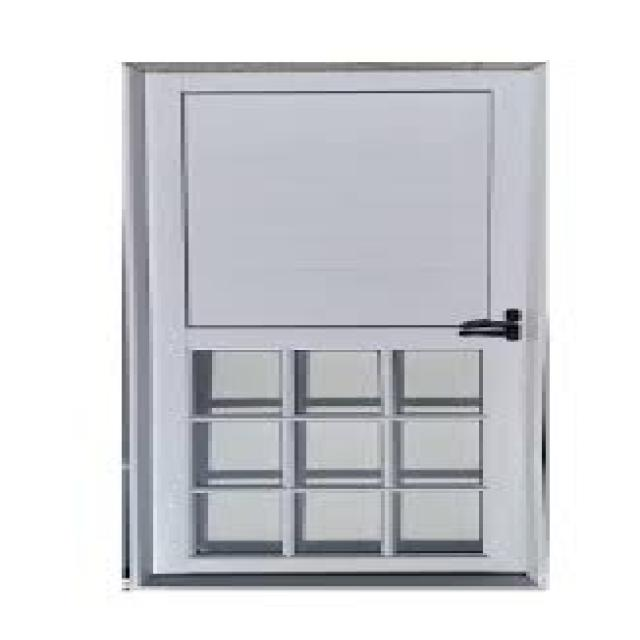door: (128, 64, 548, 590)
